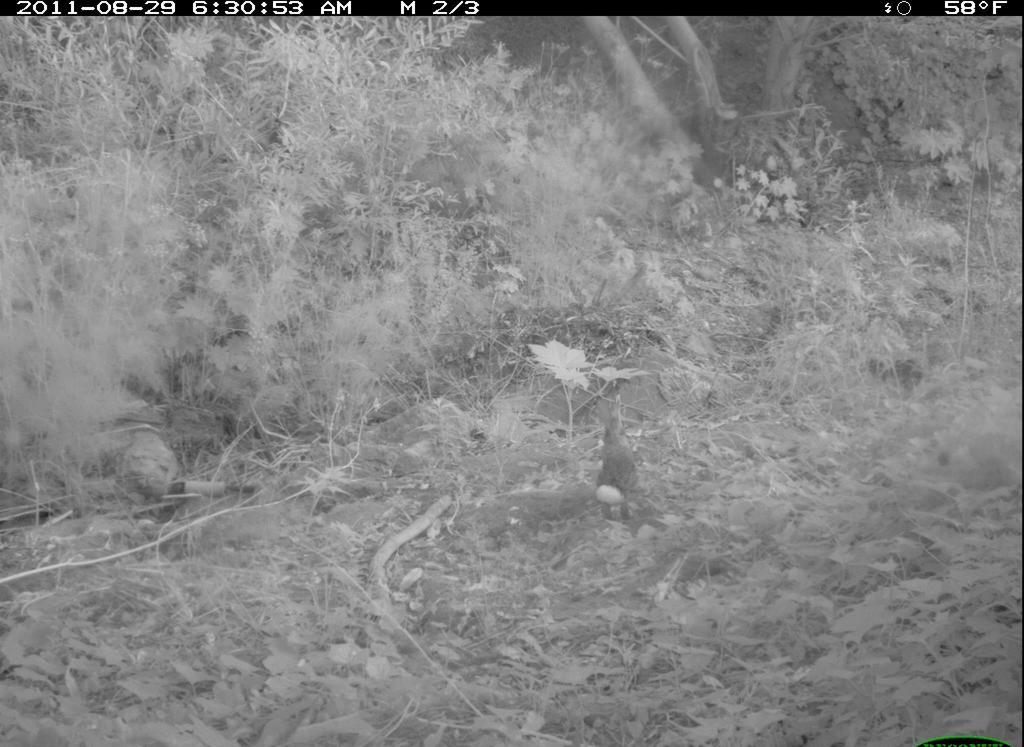rabbit: (588, 391, 673, 545)
